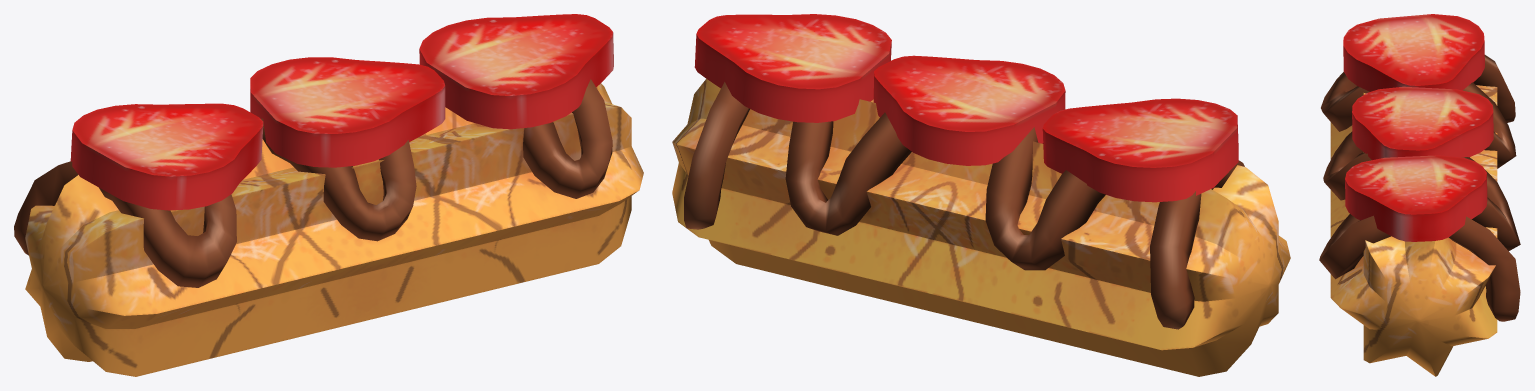
File: 11_5_chyrros.fbx
The picture shows the model from 3 angles, left to right: view 1: azimuth 30°, elevation 25°; view 2: azimuth 150°, elevation 25°; view 3: azimuth 270°, elevation 25°; orthographic projection. The views are drawn at different scales.
Visible parts, largest first — view 1: Circle.044; view 2: Circle.044; view 3: Circle.044.
Boxes of the visible parts, bbox=[...] form: Circle.044: bbox=[14, 14, 643, 376]; Circle.044: bbox=[672, 14, 1290, 376]; Circle.044: bbox=[1319, 14, 1520, 376].
Bounding box in the file's own units: 2.01 × 0.742 × 0.7615.
1 material, 1 textured.
